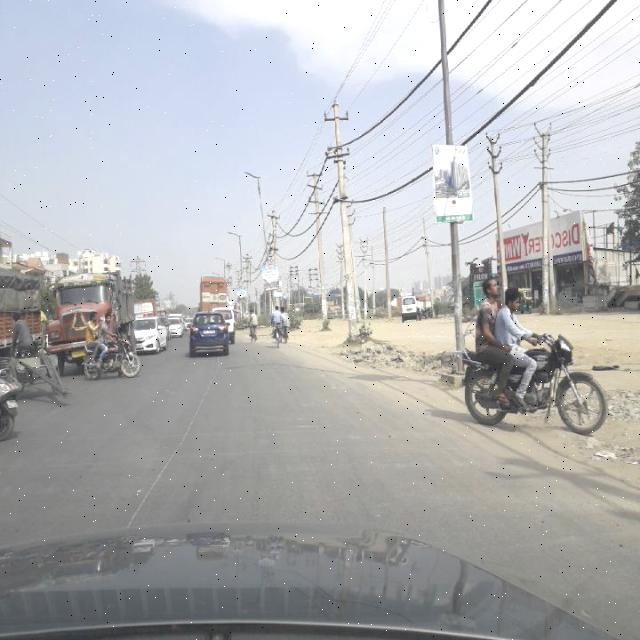D01: (138, 436, 186, 513), (186, 361, 222, 435)
